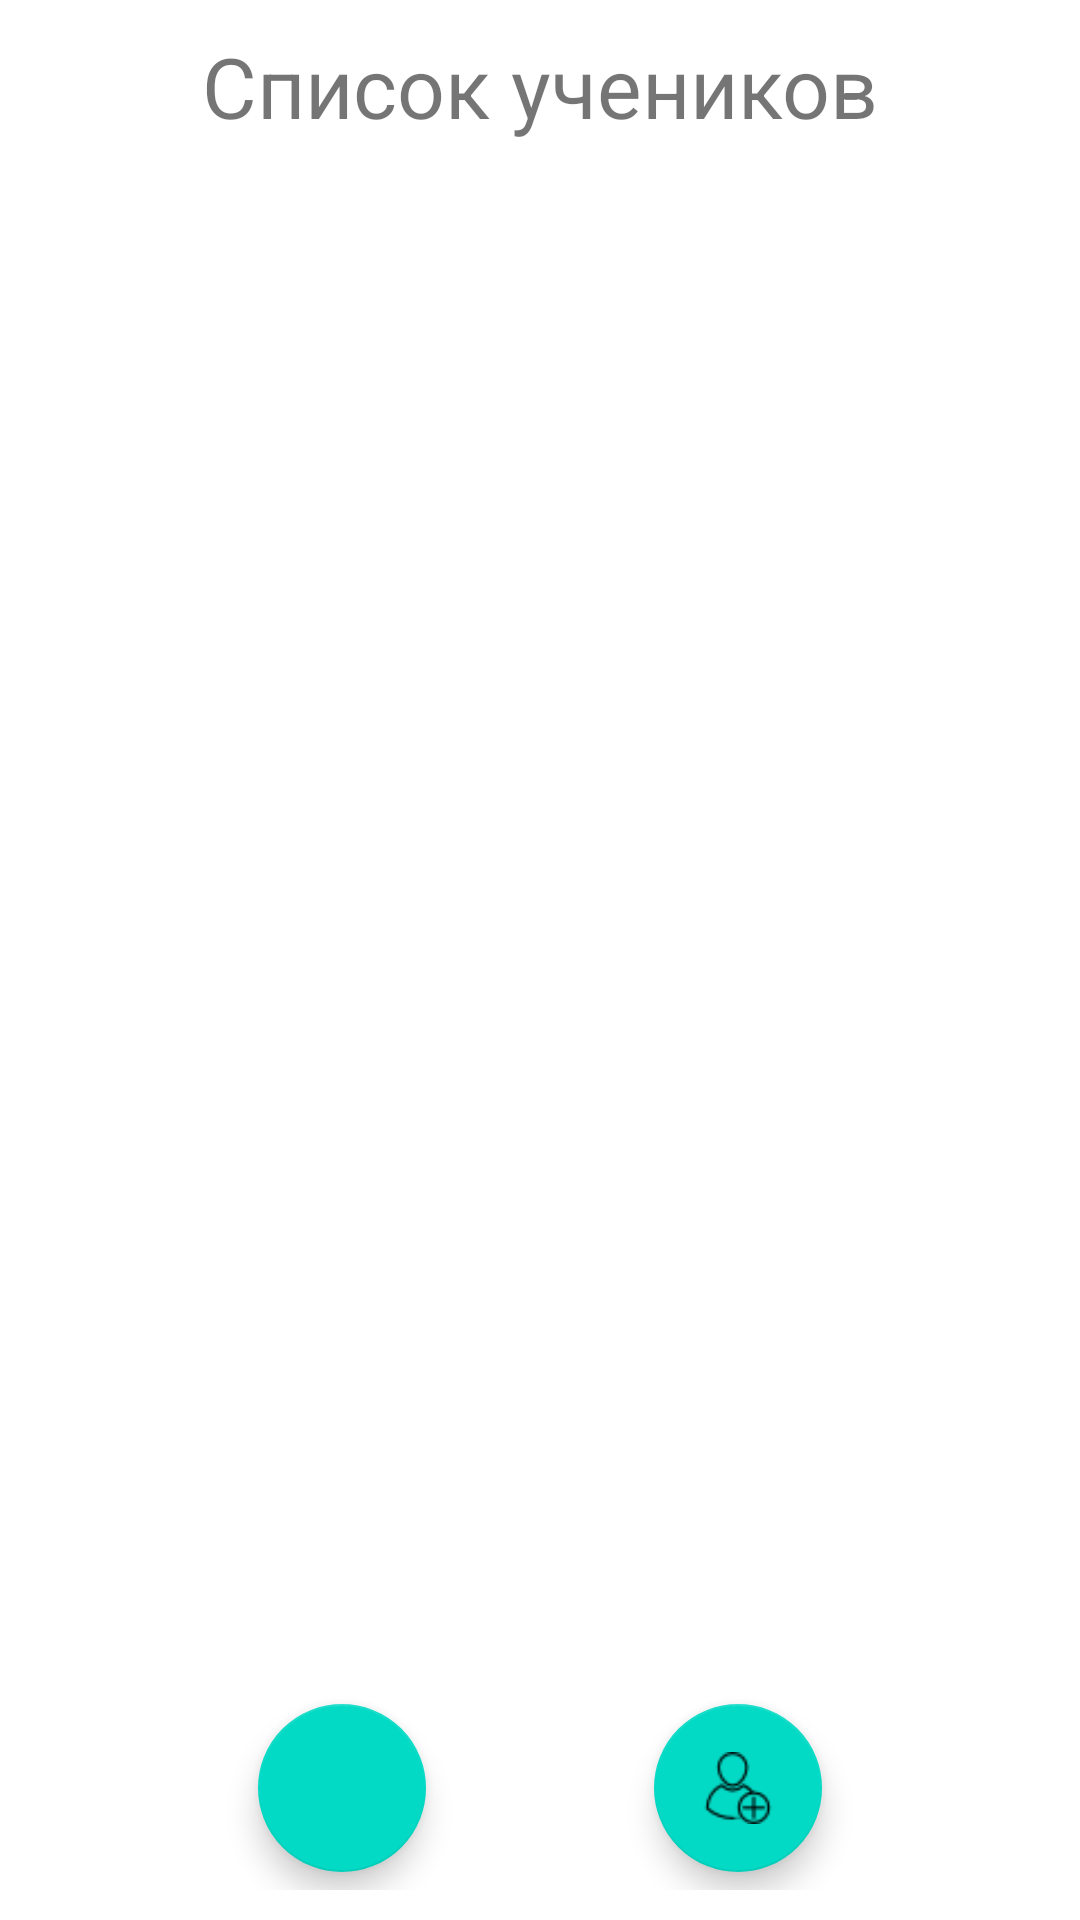

Named icons in this screenshot (1080*1920) and their bounding boxes, (x1, y1, x2, y2):
add user: (654, 1704, 822, 1872)
